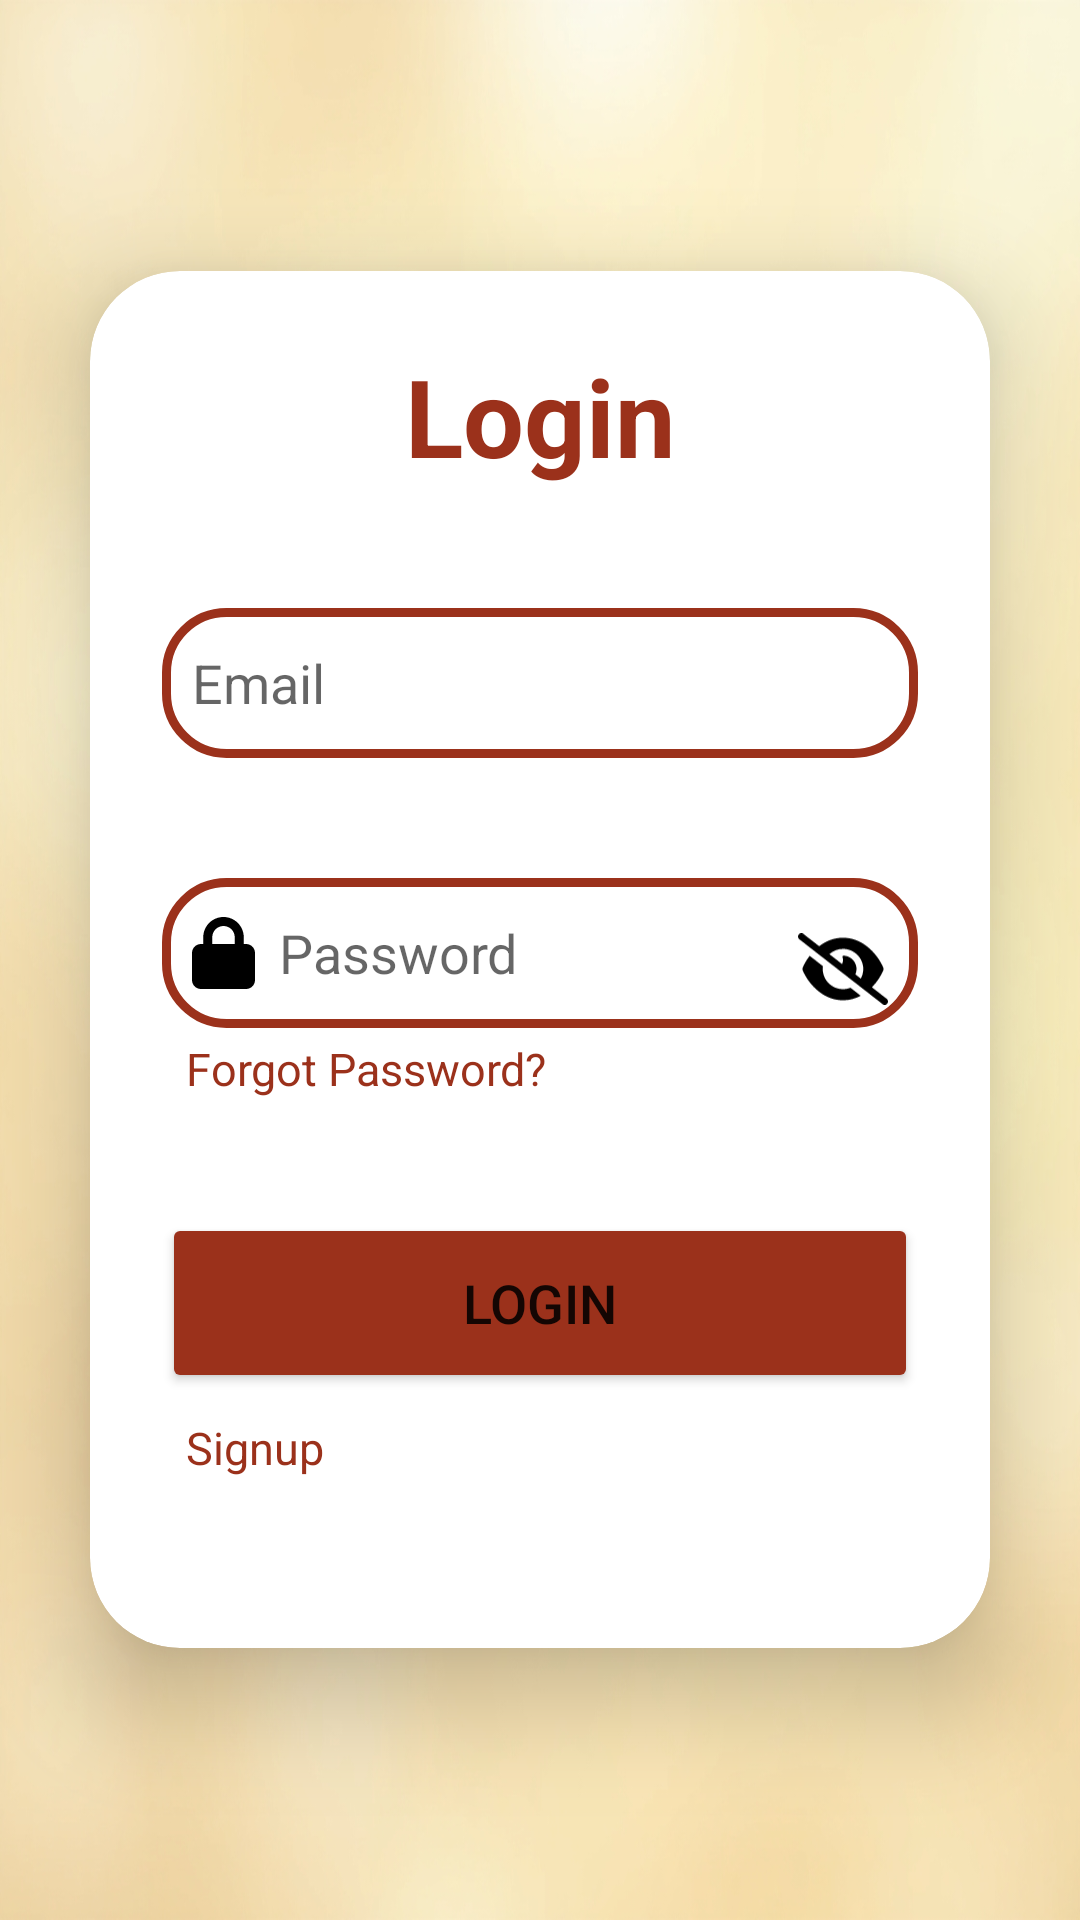

Icon bounding boxes for this 1080*1920 phone screenshot, format detection(x1, y1, x2, y2):
eye off: detection(798, 933, 888, 1005)
